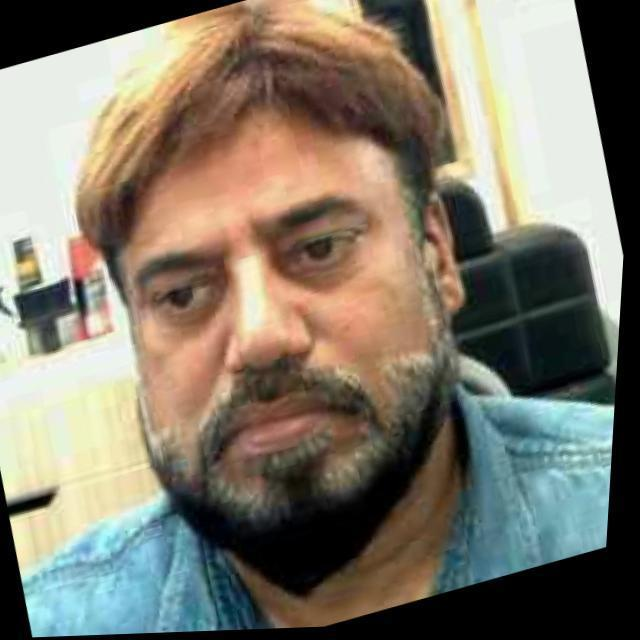puffy_eyes: (286, 257, 364, 299), (165, 302, 227, 341)
